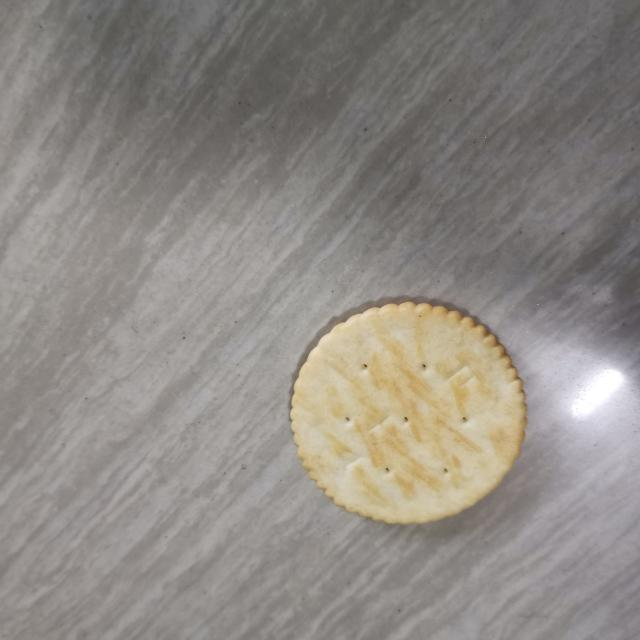Intact: (282, 290, 544, 536)
